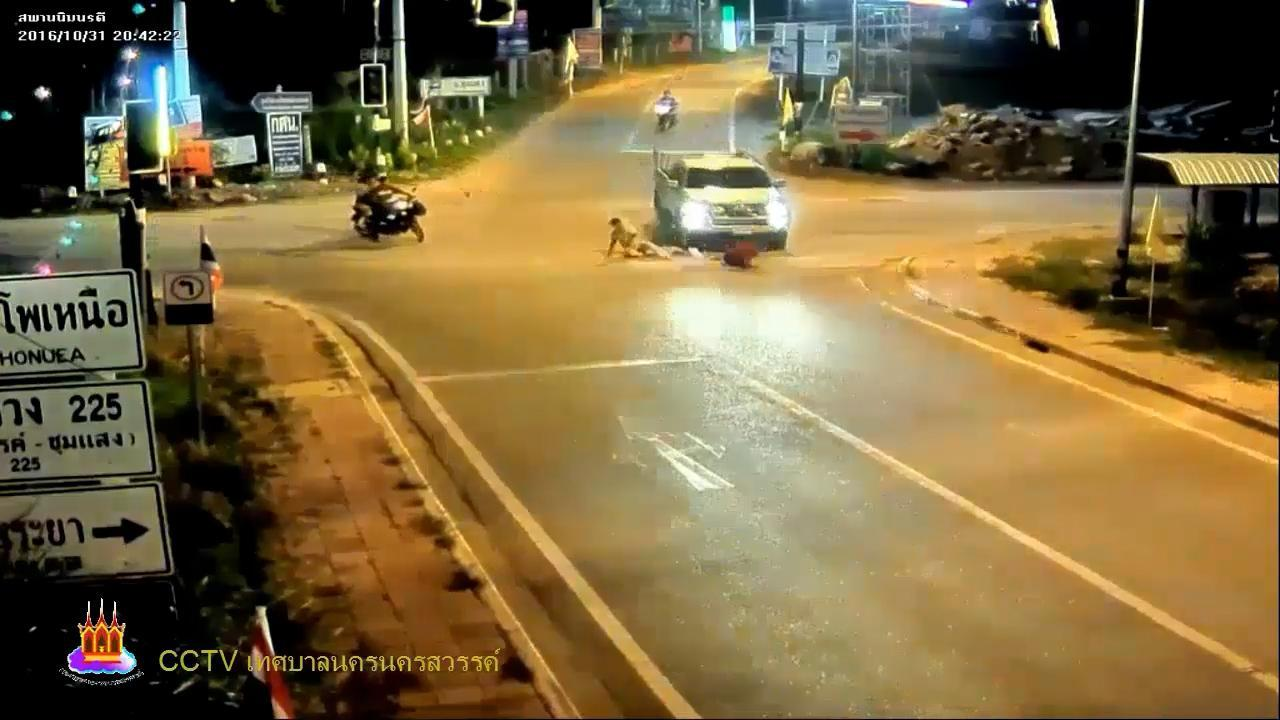accident: (603, 216, 680, 260)
